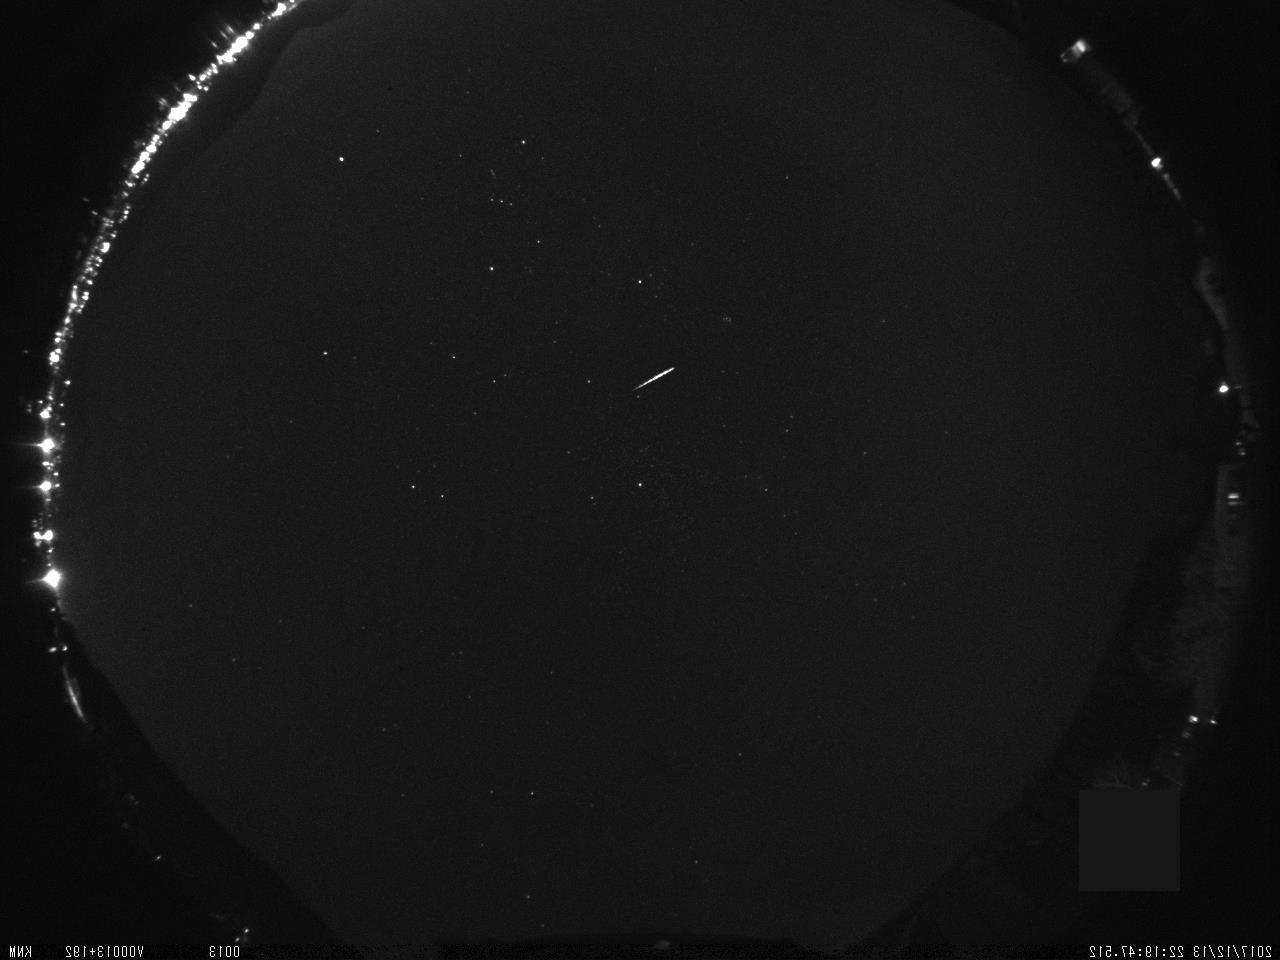meteor: (619, 351, 690, 411)
